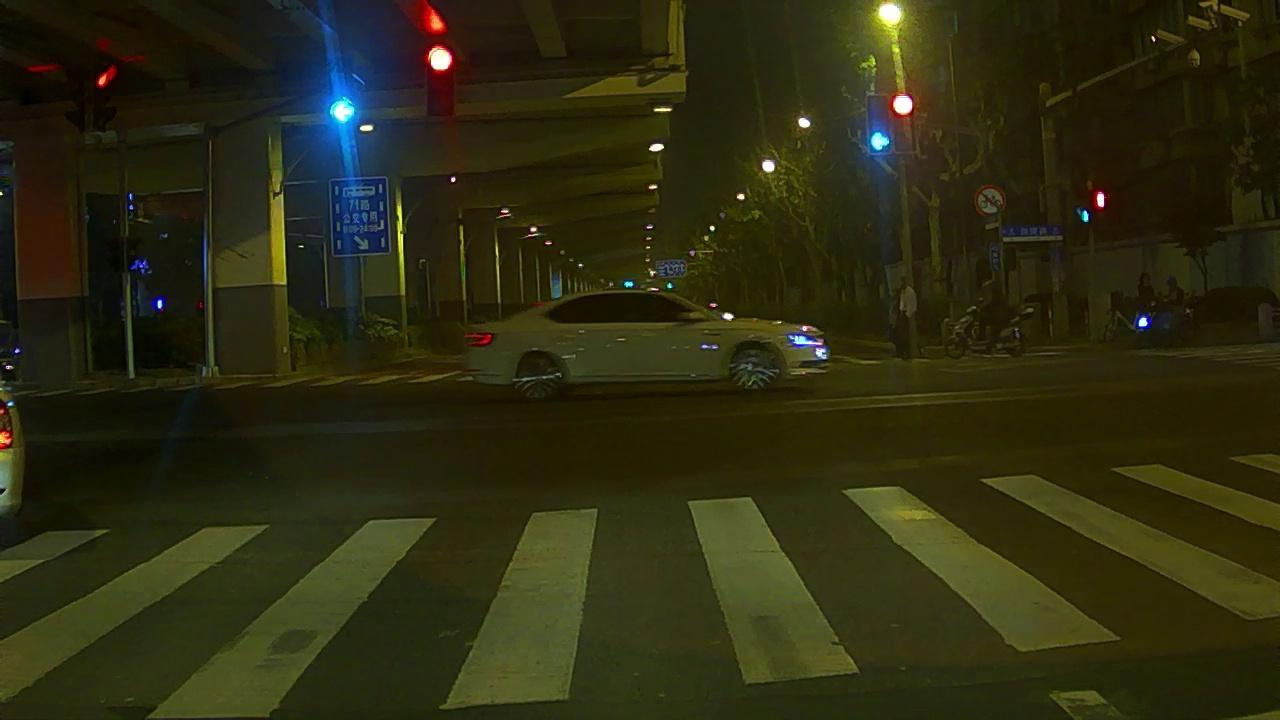traffic_light: (427, 44, 451, 114), (889, 94, 911, 150), (870, 96, 889, 152), (328, 97, 355, 124)
